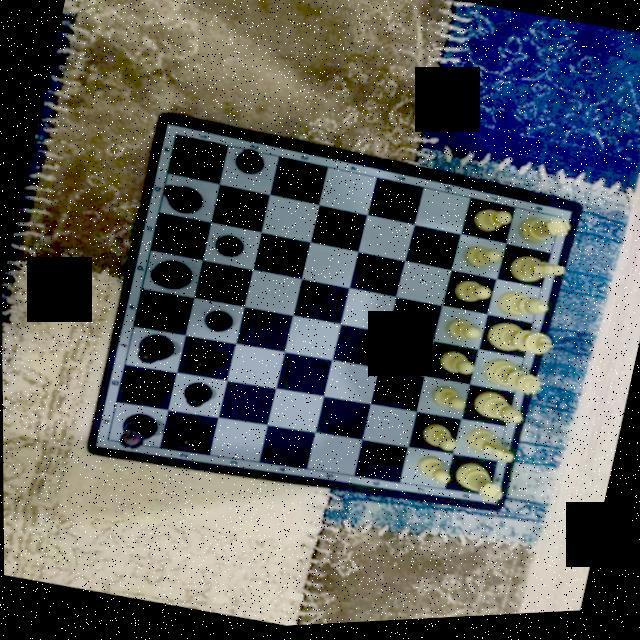chess-table-corners: (95, 428, 119, 451), (167, 126, 186, 146), (550, 212, 568, 231)
